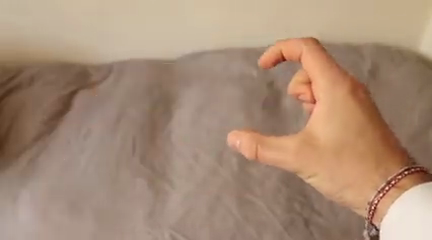C: (219, 28, 420, 204)
